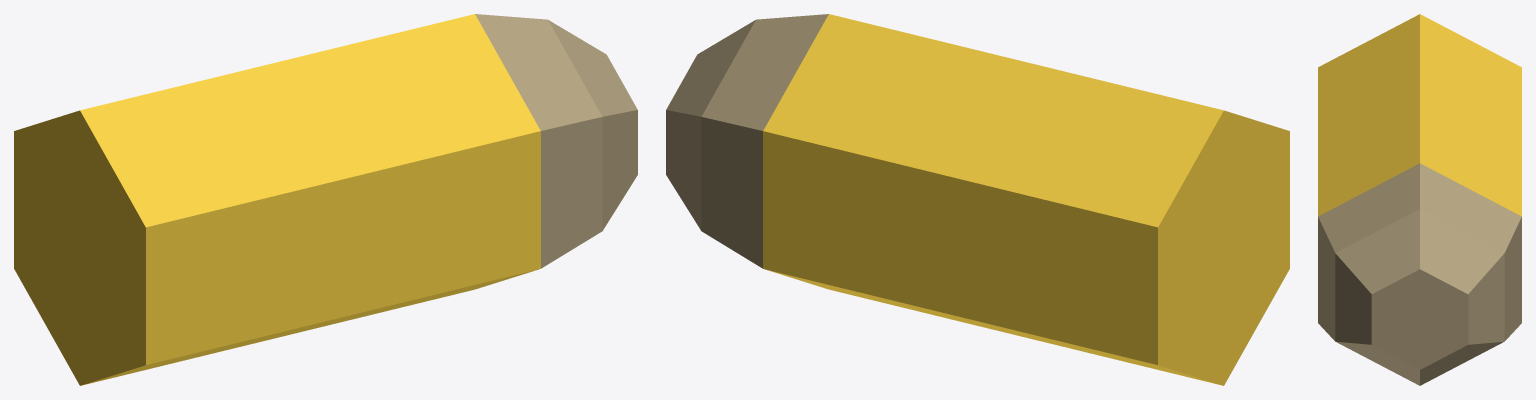
File: cartridge.fbx
3 views of the same model, side by side, from view 1: azimuth 30°, elevation 25°; view 2: azimuth 150°, elevation 25°; view 3: azimuth 270°, elevation 25° (orthographic). The views are drawn at different scales.
Visible parts, largest first — view 1: sleeve, bullet; view 2: sleeve, bullet; view 3: bullet, sleeve.
Part boxes in pixels (<box>): sleeve: <box>14,14,540,385</box>; bullet: <box>475,14,637,268</box>; sleeve: <box>763,14,1289,385</box>; bullet: <box>666,14,828,268</box>; bullet: <box>1318,163,1521,385</box>; sleeve: <box>1318,14,1521,216</box>.
Bounding box in the file's own units: 40 × 20 × 17.32.
